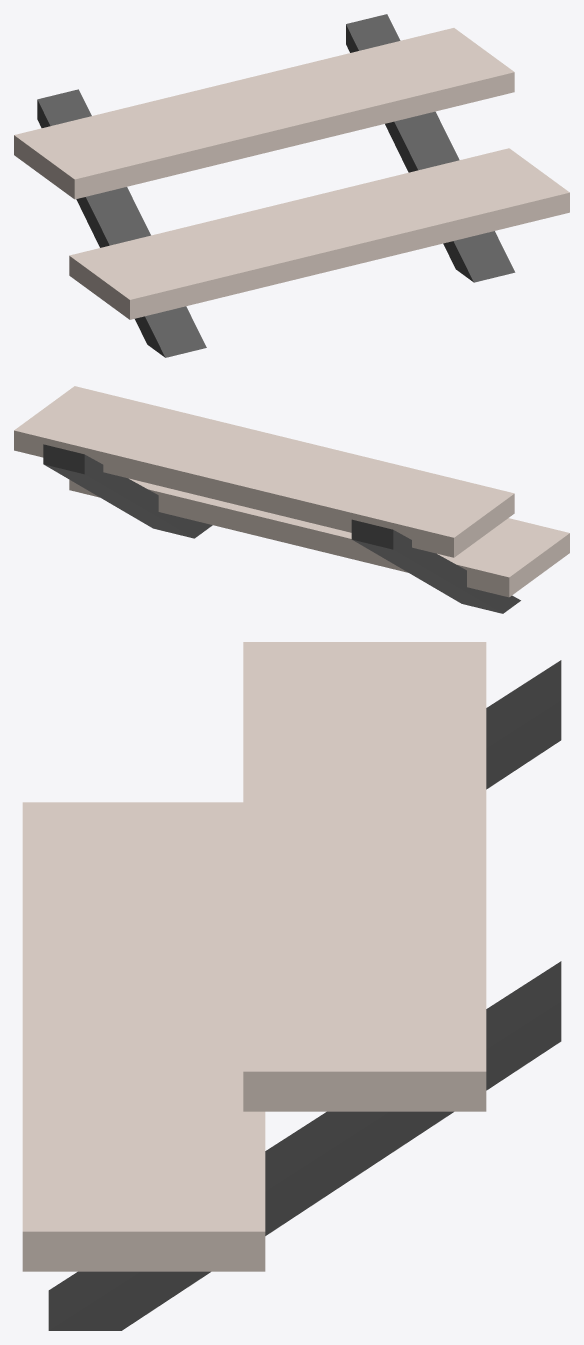
The model's file is Stairs_3.fbx.
3 views of the same model, one above another, from view 1: azimuth 30°, elevation 25°; view 2: azimuth 150°, elevation 25°; view 3: azimuth 270°, elevation 25° (orthographic). The views are drawn at different scales.
Parts seen in each view (by area): view 1: Stairs_3; view 2: Stairs_3; view 3: Stairs_3.
Part boxes in pixels (x1=…): Stairs_3: x1=14, y1=14, x2=569, y2=357; Stairs_3: x1=14, y1=386, x2=569, y2=613; Stairs_3: x1=22, y1=642, x2=561, y2=1330.
Bounding box in the file's own units: 230 × 122 × 82.34.
